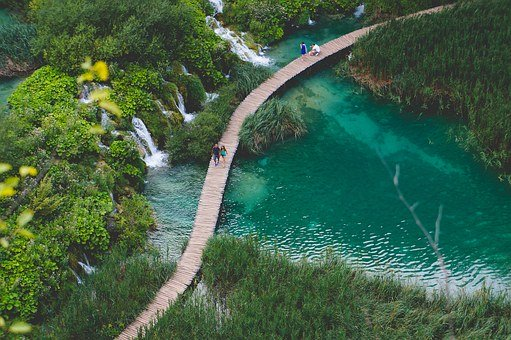forest: (14, 12, 231, 315)
lake: (245, 52, 511, 307)
